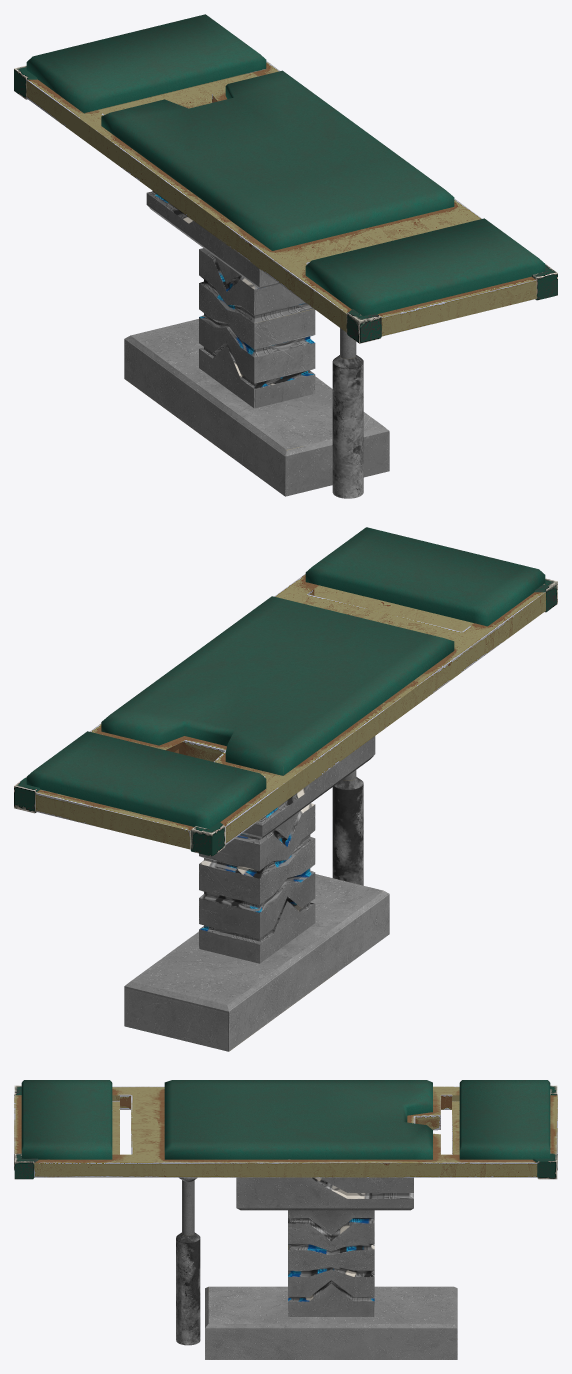
The model's file is operation bed.fbx.
3 renders of one model, top to bottom at view 1: azimuth 30°, elevation 25°; view 2: azimuth 150°, elevation 25°; view 3: azimuth 270°, elevation 25°, orthographic. The views are drawn at different scales.
Visible parts, largest first — view 1: Cube.002, Cube; view 2: Cube, Cube.002; view 3: Cube, Cube.002.
Part boxes in pixels (bbox=[...]): Cube.002: bbox=[26, 14, 545, 316]; Cube: bbox=[14, 61, 557, 498]; Cube: bbox=[14, 574, 557, 1051]; Cube.002: bbox=[26, 527, 545, 828]; Cube: bbox=[14, 1085, 557, 1359]; Cube.002: bbox=[21, 1080, 550, 1159].
Size of the model in its own units: 352 by 489 by 1060.
